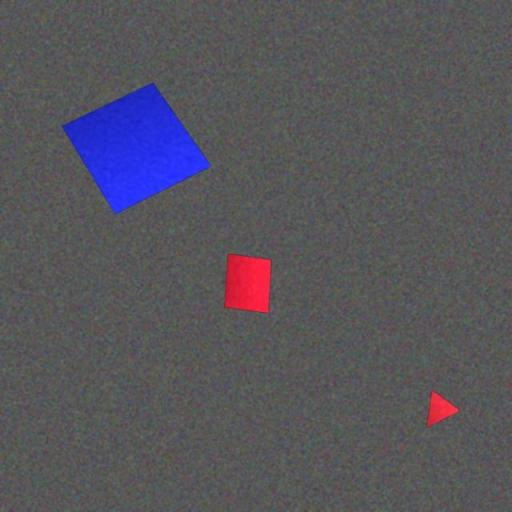BLUE_SQUARE: (61, 82, 212, 215)
RED_SQUARE: (224, 254, 272, 314)
